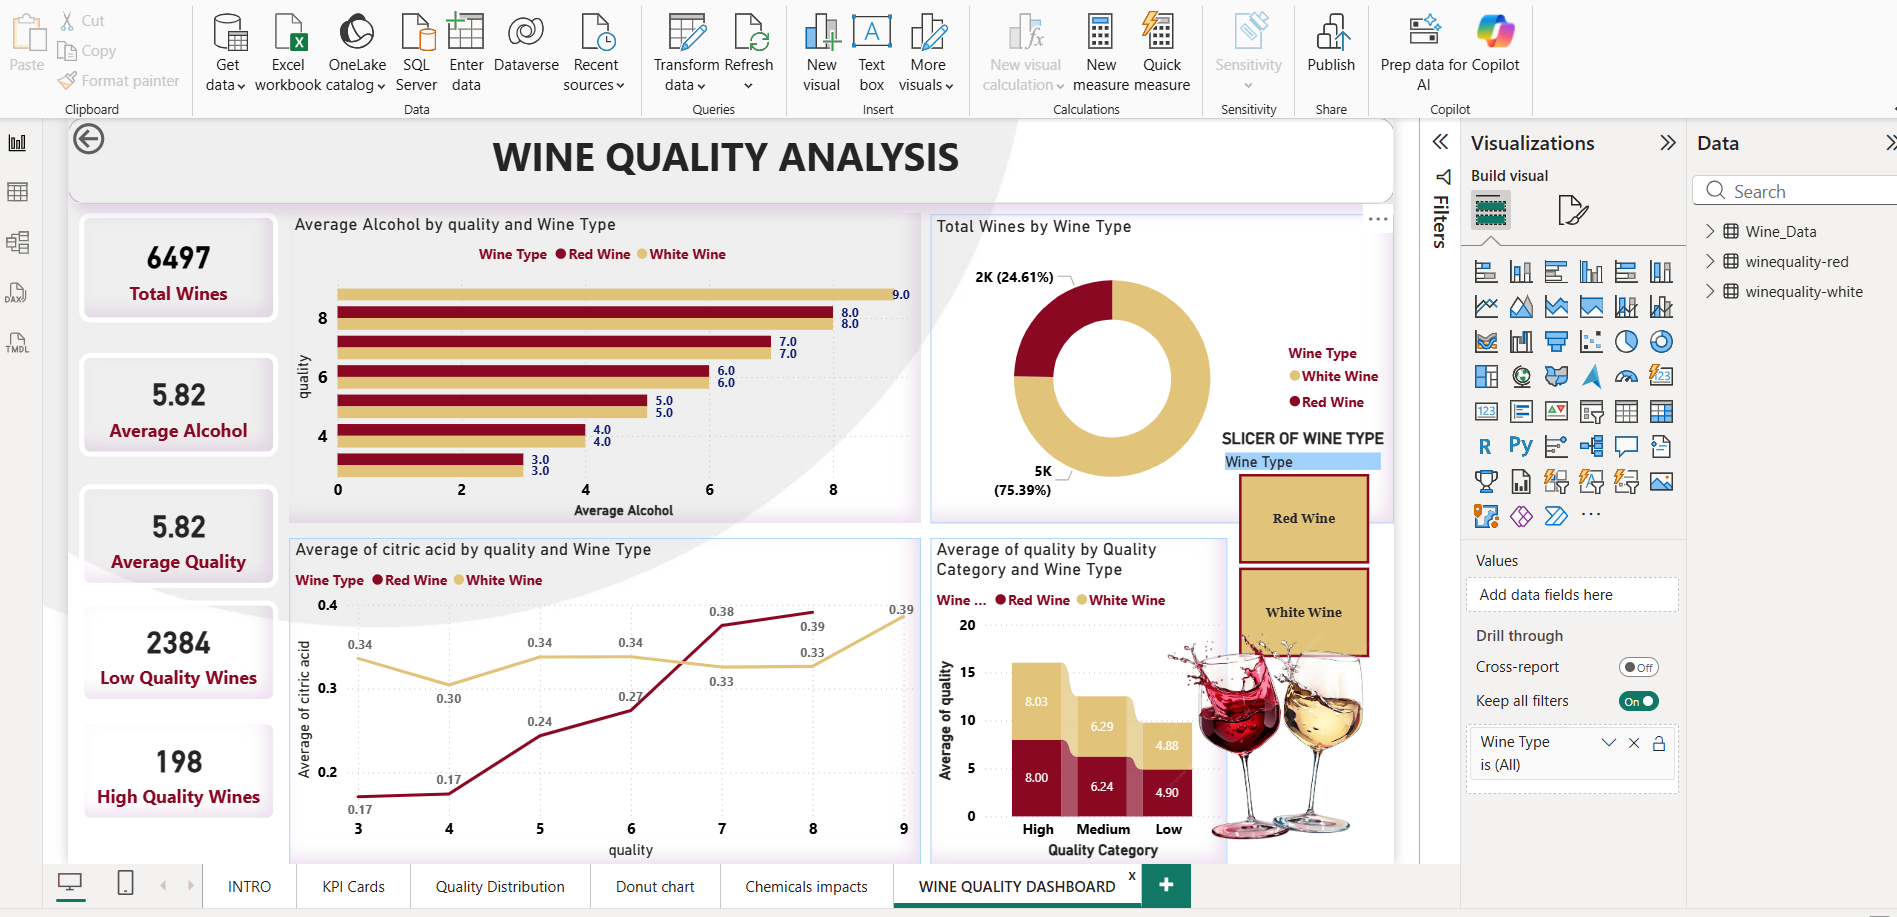

The dashboard page shown, as its layout file describes it:
{"tool":"powerbi","page":{"name":"WINE QUALITY DASHBOARD","canvas":[1280,720],"ordinal":5},"visuals":[{"type":"clusteredBarChart","fields":{"Y":["Wine_Data.Average Alcohol"],"Category":["Wine_Data.quality"],"Series":["Wine_Data.Wine Type"]},"box":[214.1,91.9,609.3,299.1],"z":0},{"type":"donutChart","fields":{"Category":["Wine_Data.Wine Type"],"Y":["Wine_Data.Total Wines"]},"box":[832.5,92.5,447.5,298.8],"z":1000},{"type":"lineChart","fields":{"Y":["Avg(Wine_Data.citric acid)"],"Category":["Wine_Data.quality"],"Series":["Wine_Data.Wine Type"]},"box":[214.1,404.8,609.3,315.6],"z":2000},{"type":"columnChart","fields":{"Series":["Wine_Data.Wine Type"],"Y":["Avg(Wine_Data.quality)"],"Category":["Wine_Data.Quality Category"]},"box":[832.9,404.8,286.8,315.6],"z":3000},{"type":"slicer","title":"SLICER OF WINE TYPE","fields":{"Values":["Wine_Data.Wine Type"]},"box":[1103.9,300.4,176.1,226.8],"z":4000},{"type":"actionButton","box":[0,0,100,40],"z":5000},{"type":"card","fields":{"Values":["Wine_Data.High Quality Wines"]},"box":[11,580.4,192.1,100.2],"z":6000},{"type":"card","fields":{"Values":["Wine_Data.Low Quality Wines"]},"box":[11,465.2,192.1,100.2],"z":7000},{"type":"card","fields":{"Values":["Wine_Data.Average Quality"]},"box":[11,354,192.1,100.2],"z":8000},{"type":"card","fields":{"Values":["Wine_Data.Average Alcohol"]},"box":[11,226.4,192.1,100.2],"z":9000},{"type":"card","fields":{"Values":["Wine_Data.Total Wines"]},"box":[11,91.9,192.1,105.7],"z":10000},{"type":"textbox","box":[0,0,1280.3,82.3],"z":11000},{"type":"image","box":[1056.2,486.2,223.8,233.8],"z":12000}]}

Visuals, with their boxes on the page's 1280x720 design canvas (x1, y1, x2, y2). These are canvas units, not pixel positions in the 1897x917 screenshot, which may show the page scaled, cropped or inside an application window:
clusteredBarChart - Wine_Data.Average Alcohol x Wine_Data.quality: (214,92,823,391)
donutChart - Wine_Data.Wine Type x Wine_Data.Total Wines: (832,92,1280,391)
lineChart - Avg(Wine_Data.citric acid) x Wine_Data.quality: (214,405,823,720)
columnChart - Wine_Data.Wine Type x Avg(Wine_Data.quality): (833,405,1120,720)
"SLICER OF WINE TYPE" slicer: (1104,300,1280,527)
actionButton: (0,0,100,40)
card - Wine_Data.High Quality Wines: (11,580,203,681)
card - Wine_Data.Low Quality Wines: (11,465,203,565)
card - Wine_Data.Average Quality: (11,354,203,454)
card - Wine_Data.Average Alcohol: (11,226,203,327)
card - Wine_Data.Total Wines: (11,92,203,198)
textbox: (0,0,1280,82)
image: (1056,486,1280,720)
